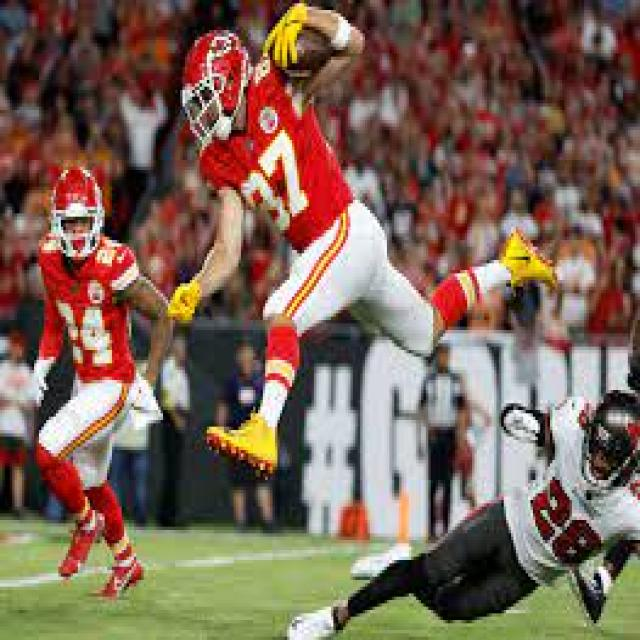Ball: (270, 24, 332, 80)
